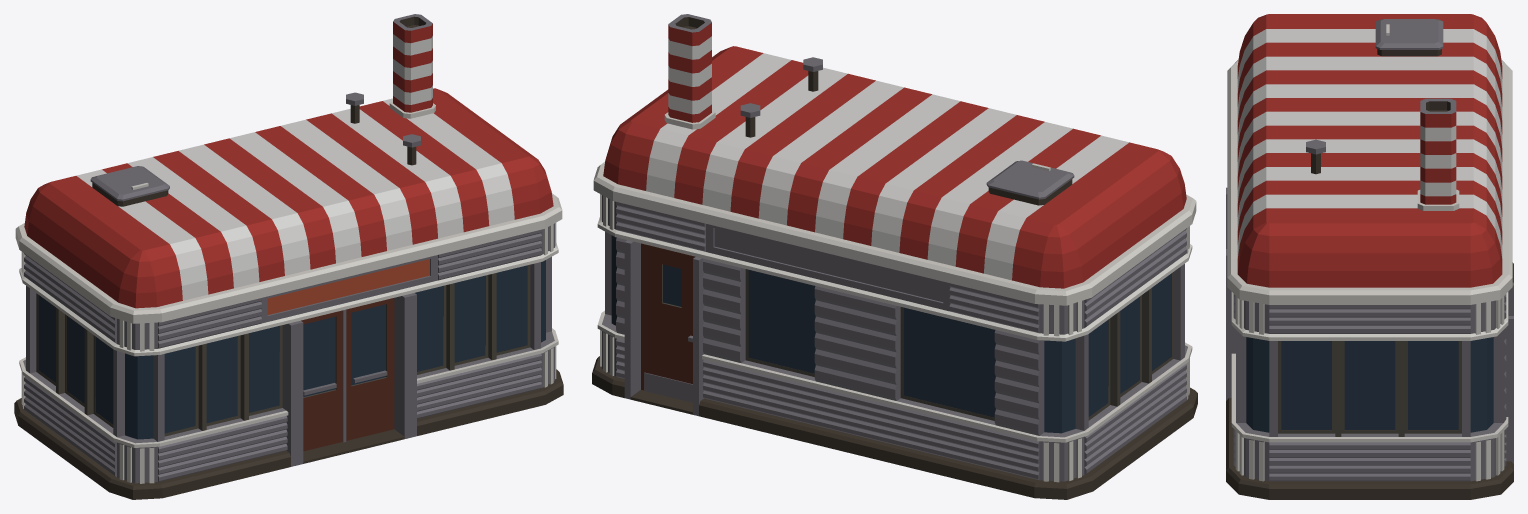
The model's file is street_diner.glb.
The picture shows the model from 3 angles, left to right: view 1: azimuth 30°, elevation 25°; view 2: azimuth 150°, elevation 25°; view 3: azimuth 270°, elevation 25°; orthographic projection. The views are drawn at different scales.
Visible parts, largest first — view 1: diner-body, door-right-mesh, door-left-mesh, flue-stack-mesh, roof-hatch-mesh; view 2: diner-body, flue-stack-mesh, roof-hatch-mesh; view 3: diner-body, flue-stack-mesh, roof-hatch-mesh.
Part boxes in pixels (x1,y1,x2,y2): diner-body: [14, 88, 563, 499]; door-right-mesh: [342, 298, 394, 442]; door-left-mesh: [301, 310, 342, 451]; flue-stack-mesh: [389, 14, 435, 118]; roof-hatch-mesh: [90, 166, 169, 201]; diner-body: [592, 46, 1197, 499]; flue-stack-mesh: [664, 14, 715, 129]; roof-hatch-mesh: [986, 160, 1074, 199]; diner-body: [1226, 14, 1513, 499]; flue-stack-mesh: [1417, 98, 1459, 210]; roof-hatch-mesh: [1375, 19, 1443, 49].
Bounding box in the file's own units: 8 × 5.45 × 4.
